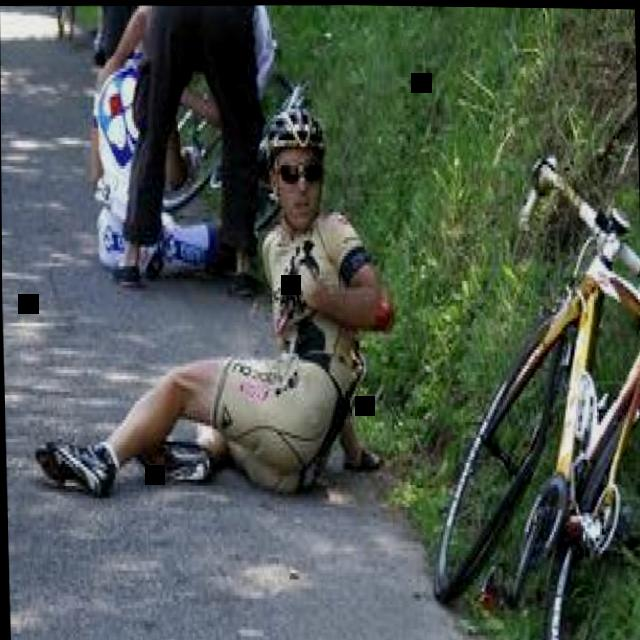Fall-Detected: (85, 2, 292, 296)
